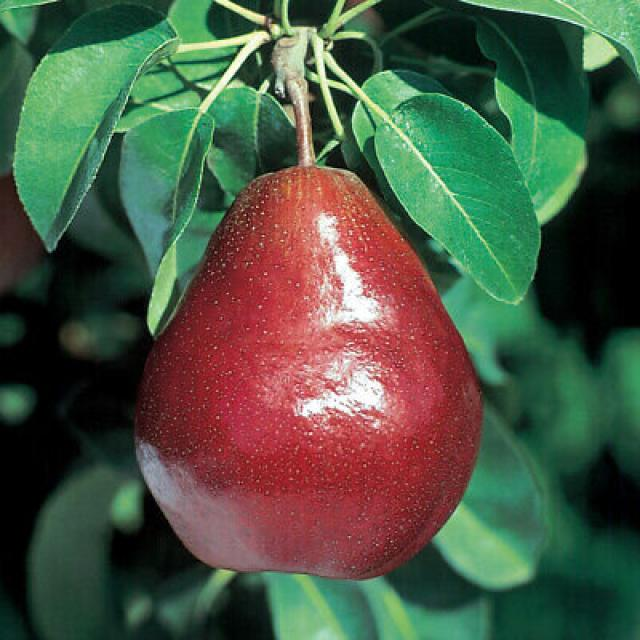pear: (130, 158, 487, 581)
